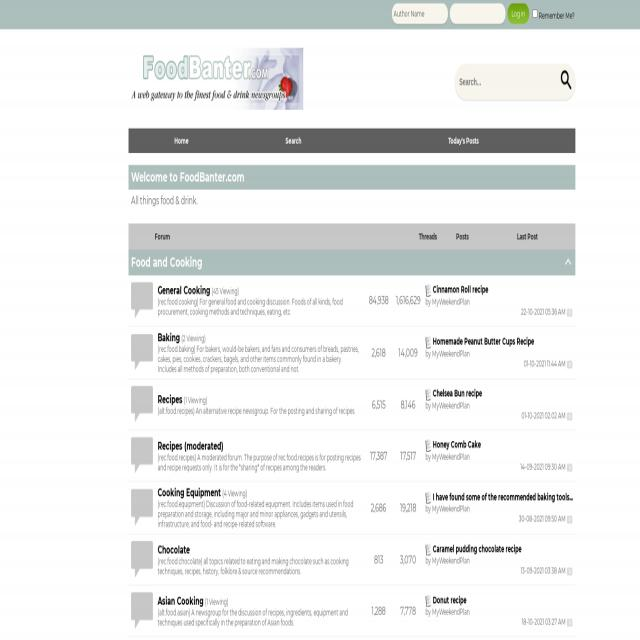button: (129, 48, 303, 110), (131, 280, 153, 321), (131, 384, 153, 425), (131, 487, 153, 528), (131, 333, 153, 373), (131, 436, 153, 476), (131, 540, 153, 580), (131, 596, 153, 626), (558, 65, 574, 95), (507, 4, 529, 24), (563, 254, 573, 271), (425, 337, 432, 349), (425, 440, 432, 452), (425, 492, 432, 504), (425, 544, 432, 556), (425, 285, 432, 296), (425, 389, 432, 400), (425, 596, 432, 607), (567, 308, 573, 318), (567, 360, 573, 370), (567, 412, 573, 422), (567, 462, 573, 472), (567, 514, 573, 524), (567, 566, 573, 576), (567, 618, 573, 628)
field: (455, 64, 575, 100), (392, 4, 448, 24), (450, 4, 506, 24), (532, 9, 538, 19)
